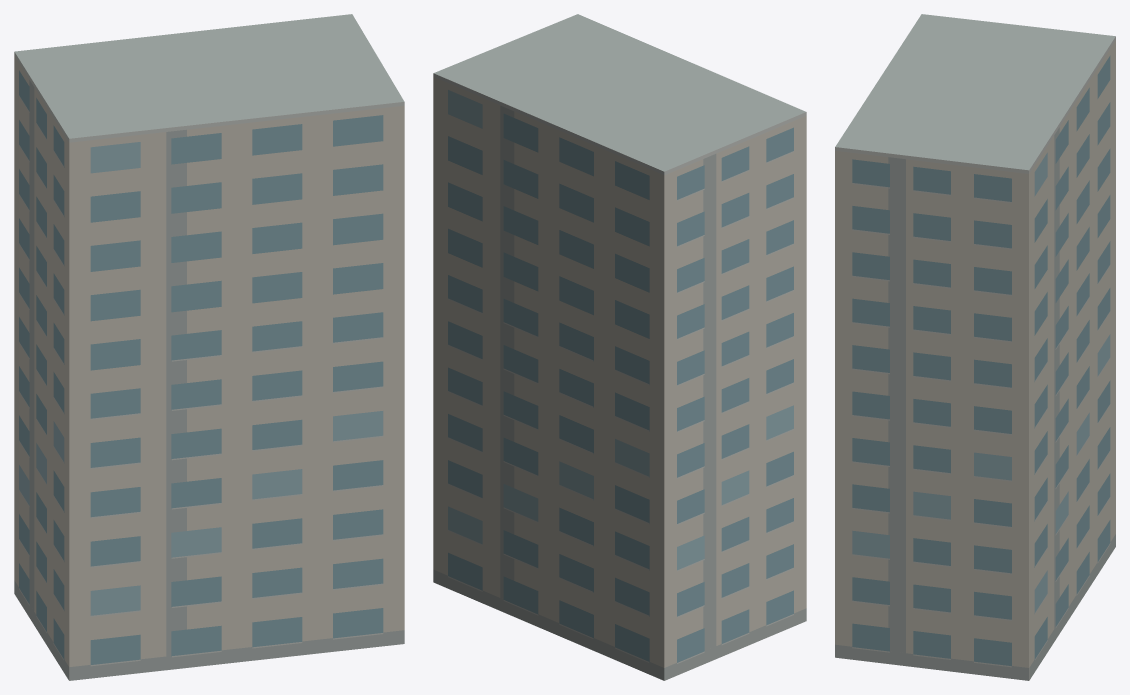
File: residential-662a7e9b-c846-46c3-bd0f-67128f67fd96.glb
The picture shows the model from 3 angles, left to right: view 1: azimuth 30°, elevation 25°; view 2: azimuth 150°, elevation 25°; view 3: azimuth 270°, elevation 25°; orthographic projection. The views are drawn at different scales.
Parts seen in each view (by area): view 1: residential-662a7e9b-c846-46c3-bd0f-67128f67fd96.tmp; view 2: residential-662a7e9b-c846-46c3-bd0f-67128f67fd96.tmp; view 3: residential-662a7e9b-c846-46c3-bd0f-67128f67fd96.tmp.
Boxes of the visible parts, bbox=[...] form: residential-662a7e9b-c846-46c3-bd0f-67128f67fd96.tmp: bbox=[14, 14, 404, 680]; residential-662a7e9b-c846-46c3-bd0f-67128f67fd96.tmp: bbox=[433, 14, 806, 680]; residential-662a7e9b-c846-46c3-bd0f-67128f67fd96.tmp: bbox=[835, 14, 1115, 680].
Size of the model in its own units: 22.04 by 33.55 by 16.73.
